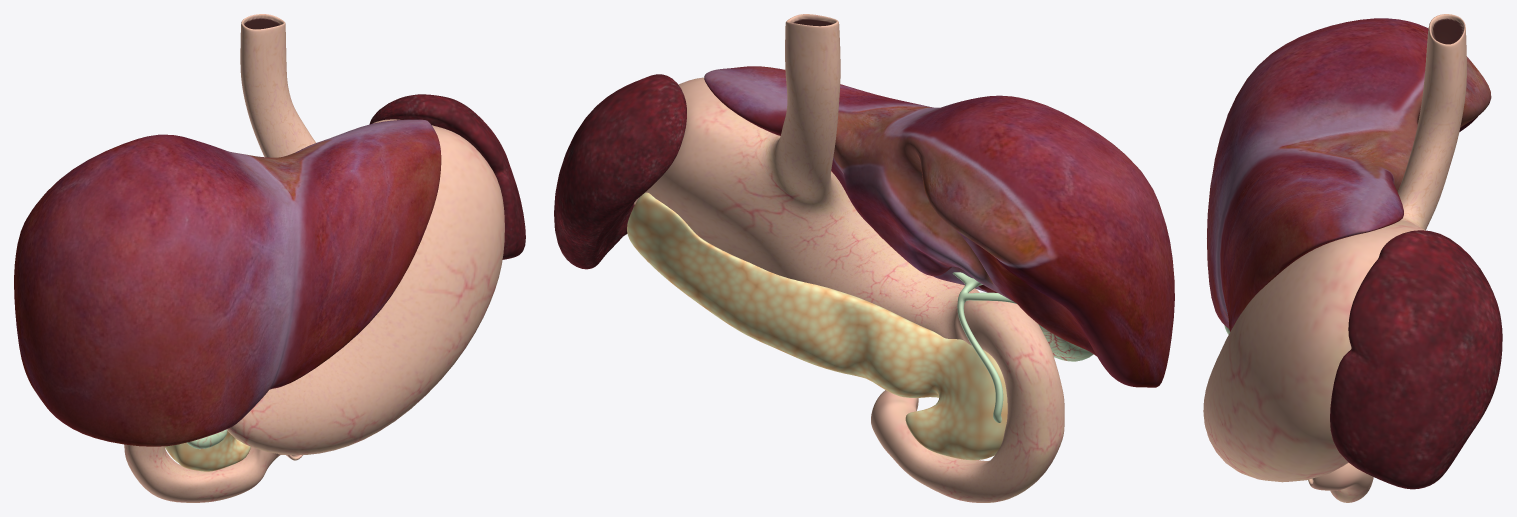
The picture shows the model from 3 angles, left to right: view 1: azimuth 30°, elevation 25°; view 2: azimuth 150°, elevation 25°; view 3: azimuth 270°, elevation 25°; orthographic projection. The views are drawn at different scales.
Parts seen in each view (by area): view 1: Gallenwege; view 2: Gallenwege; view 3: Gallenwege.
Part boxes in pixels (x1,y1,x2,y2): Gallenwege: (14, 14, 525, 502); Gallenwege: (554, 14, 1174, 502); Gallenwege: (1203, 14, 1502, 502).
Size of the model in its own units: 0.4758 by 0.3872 by 0.2026.
Materials: 6 (6 with a texture image).
